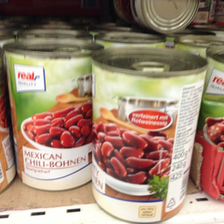beans: (90, 46, 211, 224), (4, 40, 92, 193)
